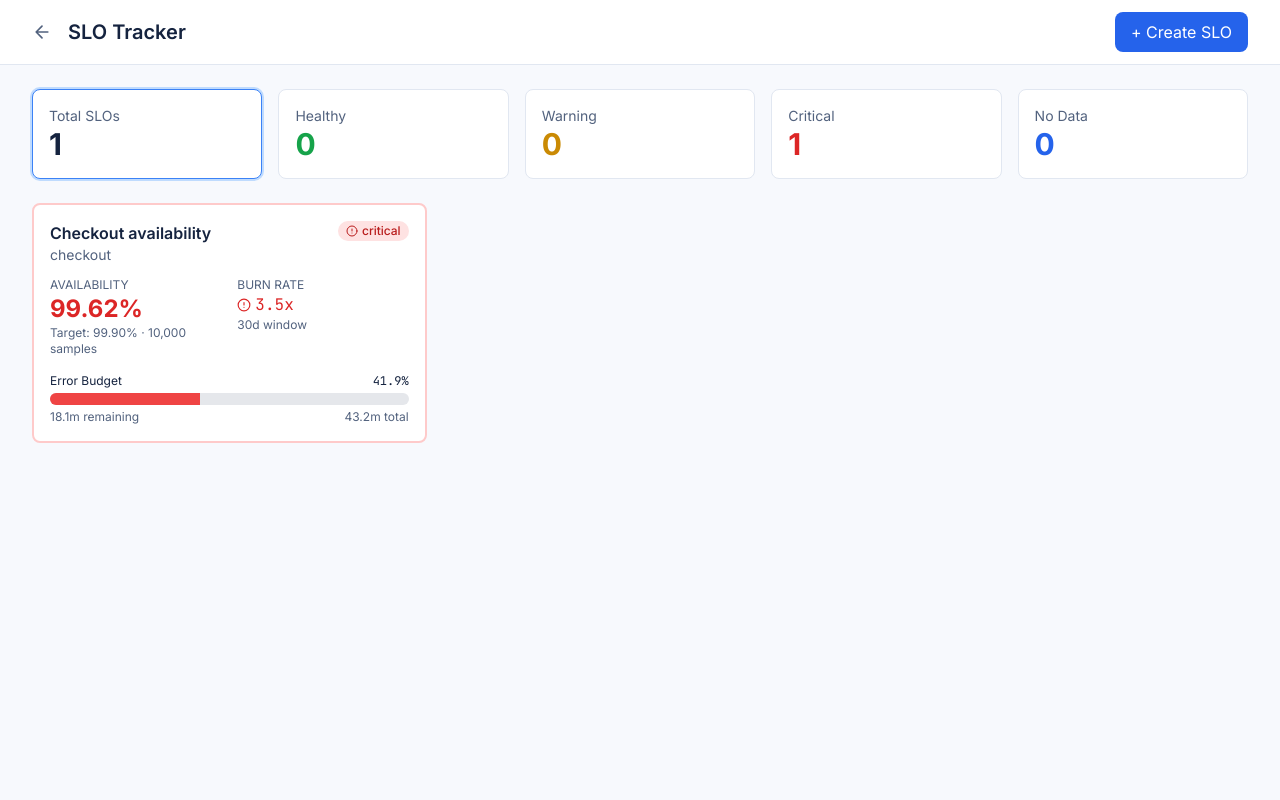
it: SLO time to exhaustion › reports the projection the tracker made, in the units it is in
Click the heading "Checkout availability": [131, 233] box [50,221,211,245]
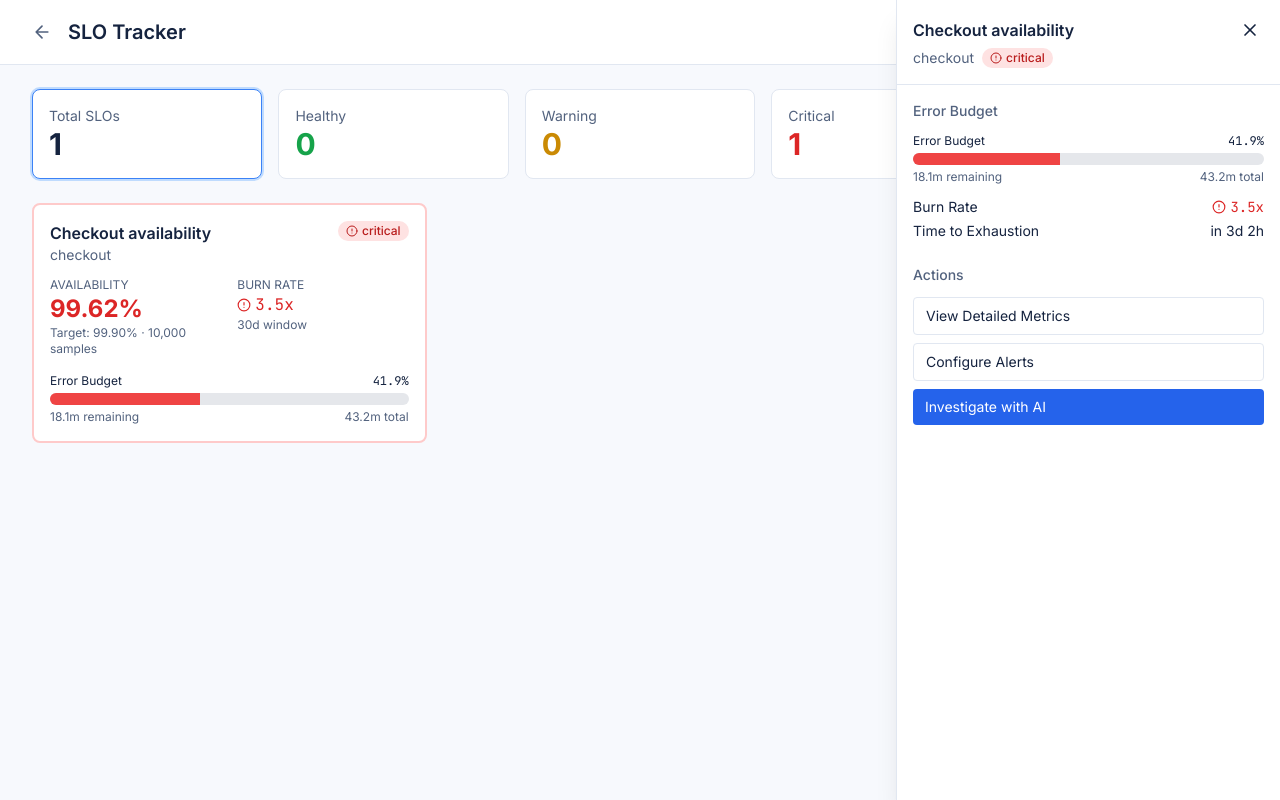
Expected: the text "in 3d 2h" is shown, [1210,221,1264,241]
